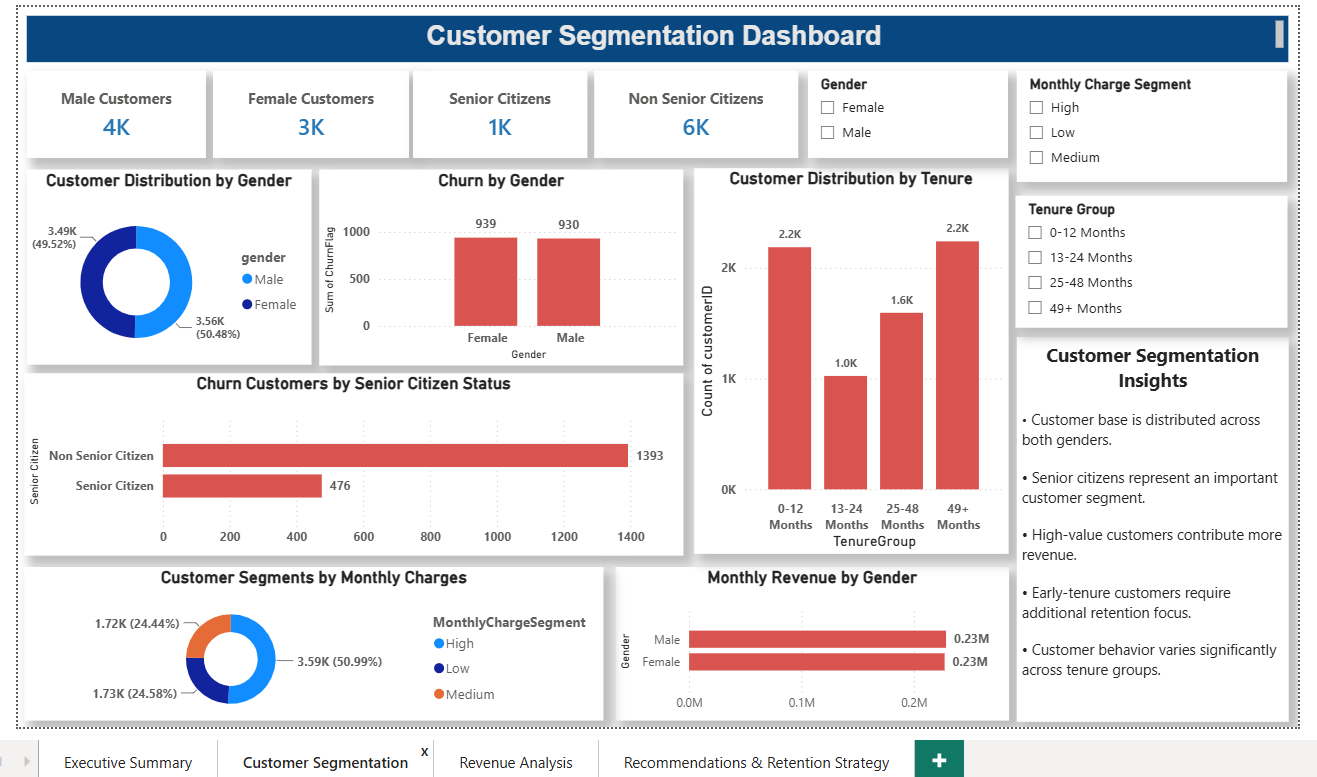

Layout of this report page (visuals, bound fields, positions):
{"tool":"powerbi","page":{"name":"Customer Segmentation","canvas":[1280,720],"ordinal":1},"visuals":[{"type":"cardVisual","fields":{"Data":["Measures (2).Male Customers"]},"box":[9,64.1,179.5,87.2],"z":0},{"type":"cardVisual","fields":{"Data":["Measures (2).Female Customers"]},"box":[194.9,64.1,196.2,87.2],"z":1000},{"type":"cardVisual","fields":{"Data":["Measures (2).Senior Citizens"]},"box":[394.9,64.1,174.4,87.2],"z":2000},{"type":"cardVisual","fields":{"Data":["Measures (2).Non Senior Citizens"]},"box":[575.6,64.1,203.8,87.2],"z":3000},{"type":"donutChart","title":"Customer Distribution by Gender","fields":{"Category":["telecom_churn fact_customer_churn.gender"],"Y":["CountNonNull(telecom_churn fact_customer_churn.customerID)"]},"box":[9,162.8,284.6,194.9],"z":4000},{"type":"clusteredColumnChart","title":"Churn by Gender","fields":{"Category":["telecom_churn fact_customer_churn.gender"],"Y":["Sum(telecom_churn fact_customer_churn.ChurnFlag)"]},"box":[301.3,162.8,364.1,196.2],"z":5000},{"type":"clusteredBarChart","title":"Churn Customers by Senior Citizen Status","fields":{"Y":["Sum(telecom_churn fact_customer_churn.ChurnFlag)"],"Category":["telecom_churn fact_customer_churn.SeniorCitizenGroup"]},"box":[6.4,366.7,659,182.1],"z":6000},{"type":"textbox","box":[9,9,1261.5,46.2],"z":7000},{"type":"clusteredBarChart","title":"Monthly Revenue by Gender","fields":{"Category":["telecom_churn fact_customer_churn.gender"],"Y":["Sum(telecom_churn fact_customer_churn.MonthlyCharges)"]},"box":[597.4,560.3,393.6,153.8],"z":8000},{"type":"donutChart","title":"Customer Segments by Monthly Charges","fields":{"Category":["telecom_churn fact_customer_churn.MonthlyChargeSegment"],"Y":["CountNonNull(telecom_churn fact_customer_churn.customerID)"]},"box":[6.4,560.3,579.5,153.8],"z":9000},{"type":"clusteredColumnChart","title":"Customer Distribution by Tenure","fields":{"Category":["telecom_churn fact_customer_churn.TenureGroup"],"Y":["CountNonNull(telecom_churn fact_customer_churn.customerID)"]},"box":[675.6,161.5,314.1,385.9],"z":10000},{"type":"textbox","box":[998.7,329.5,271.8,384.6],"z":11000},{"type":"slicer","fields":{"Values":["telecom_churn fact_customer_churn.gender"]},"box":[789.7,64.1,200,87.2],"z":12000},{"type":"slicer","fields":{"Values":["telecom_churn fact_customer_churn.MonthlyChargeSegment"]},"box":[998.7,64.1,270.5,111.5],"z":13000},{"type":"slicer","fields":{"Values":["telecom_churn fact_customer_churn.TenureGroup"]},"box":[997.4,188.5,271.8,132.1],"z":14000}]}

Visuals, with their boxes on the page's 1280x720 design canvas (x1, y1, x2, y2). These are canvas units, not pixel positions in the 1317x777 screenshot, which may show the page scaled, cropped or inside an application window:
cardVisual - Measures (2).Male Customers: 9:64:188:151
cardVisual - Measures (2).Female Customers: 195:64:391:151
cardVisual - Measures (2).Senior Citizens: 395:64:569:151
cardVisual - Measures (2).Non Senior Citizens: 576:64:779:151
"Customer Distribution by Gender" donutChart: 9:163:294:358
"Churn by Gender" clusteredColumnChart: 301:163:665:359
"Churn Customers by Senior Citizen Status" clusteredBarChart: 6:367:665:549
textbox: 9:9:1270:55
"Monthly Revenue by Gender" clusteredBarChart: 597:560:991:714
"Customer Segments by Monthly Charges" donutChart: 6:560:586:714
"Customer Distribution by Tenure" clusteredColumnChart: 676:162:990:547
textbox: 999:330:1270:714
slicer - telecom_churn fact_customer_churn.gender: 790:64:990:151
slicer - telecom_churn fact_customer_churn.MonthlyChargeSegment: 999:64:1269:176
slicer - telecom_churn fact_customer_churn.TenureGroup: 997:188:1269:321
